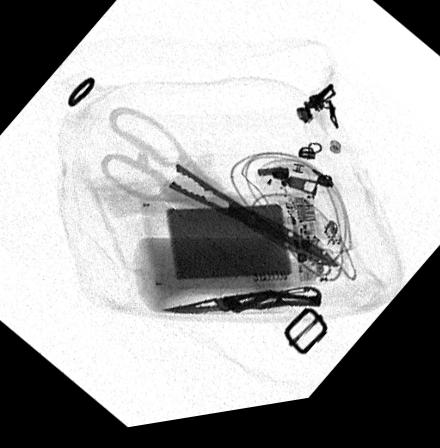Knife: (158, 292, 325, 321)
Powerbank: (141, 196, 327, 291)
Scissors: (99, 107, 336, 282)
